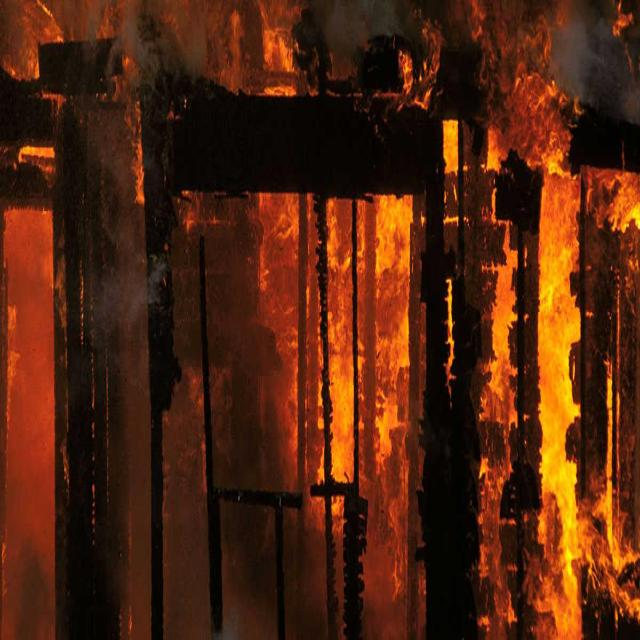Fire: (5, 2, 636, 640)
